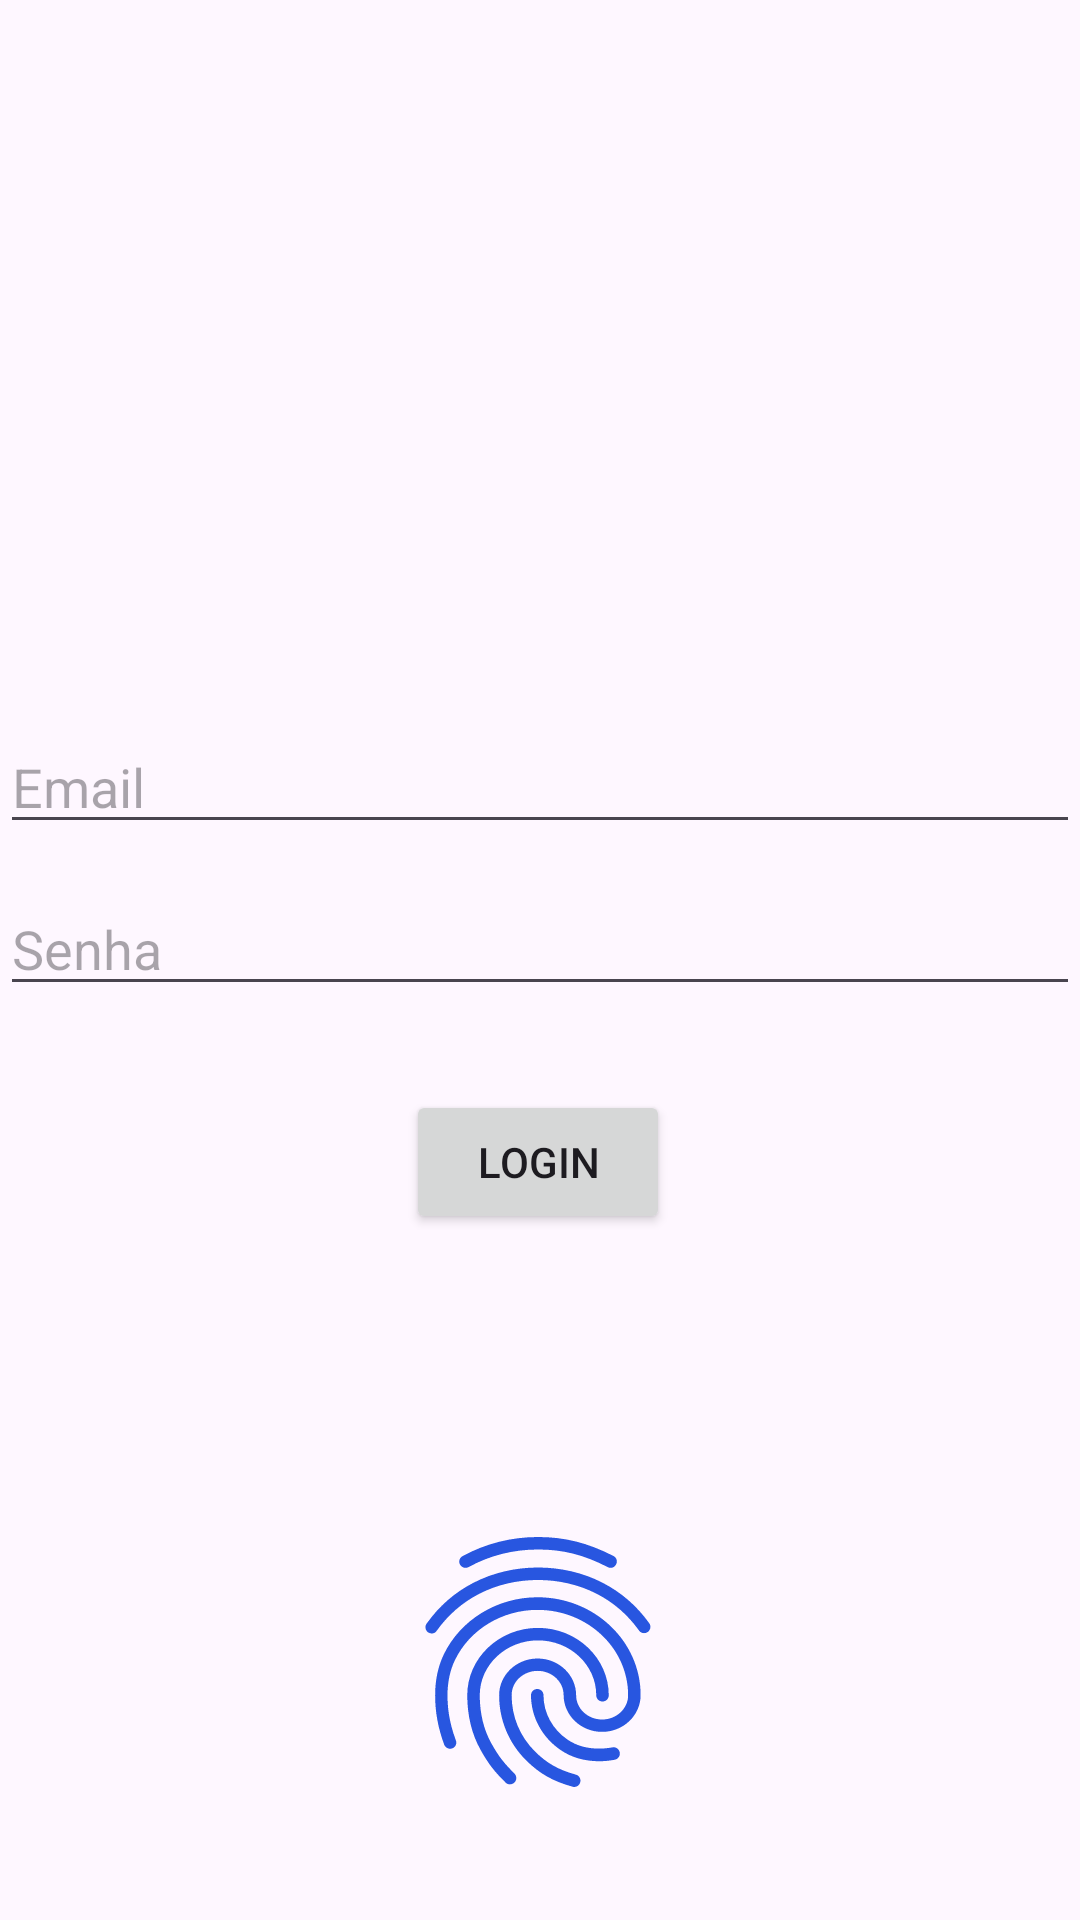

Named icons in this screenshot (1080*1920) and their centers, (x,y):
fingerprint: (538,1662)
